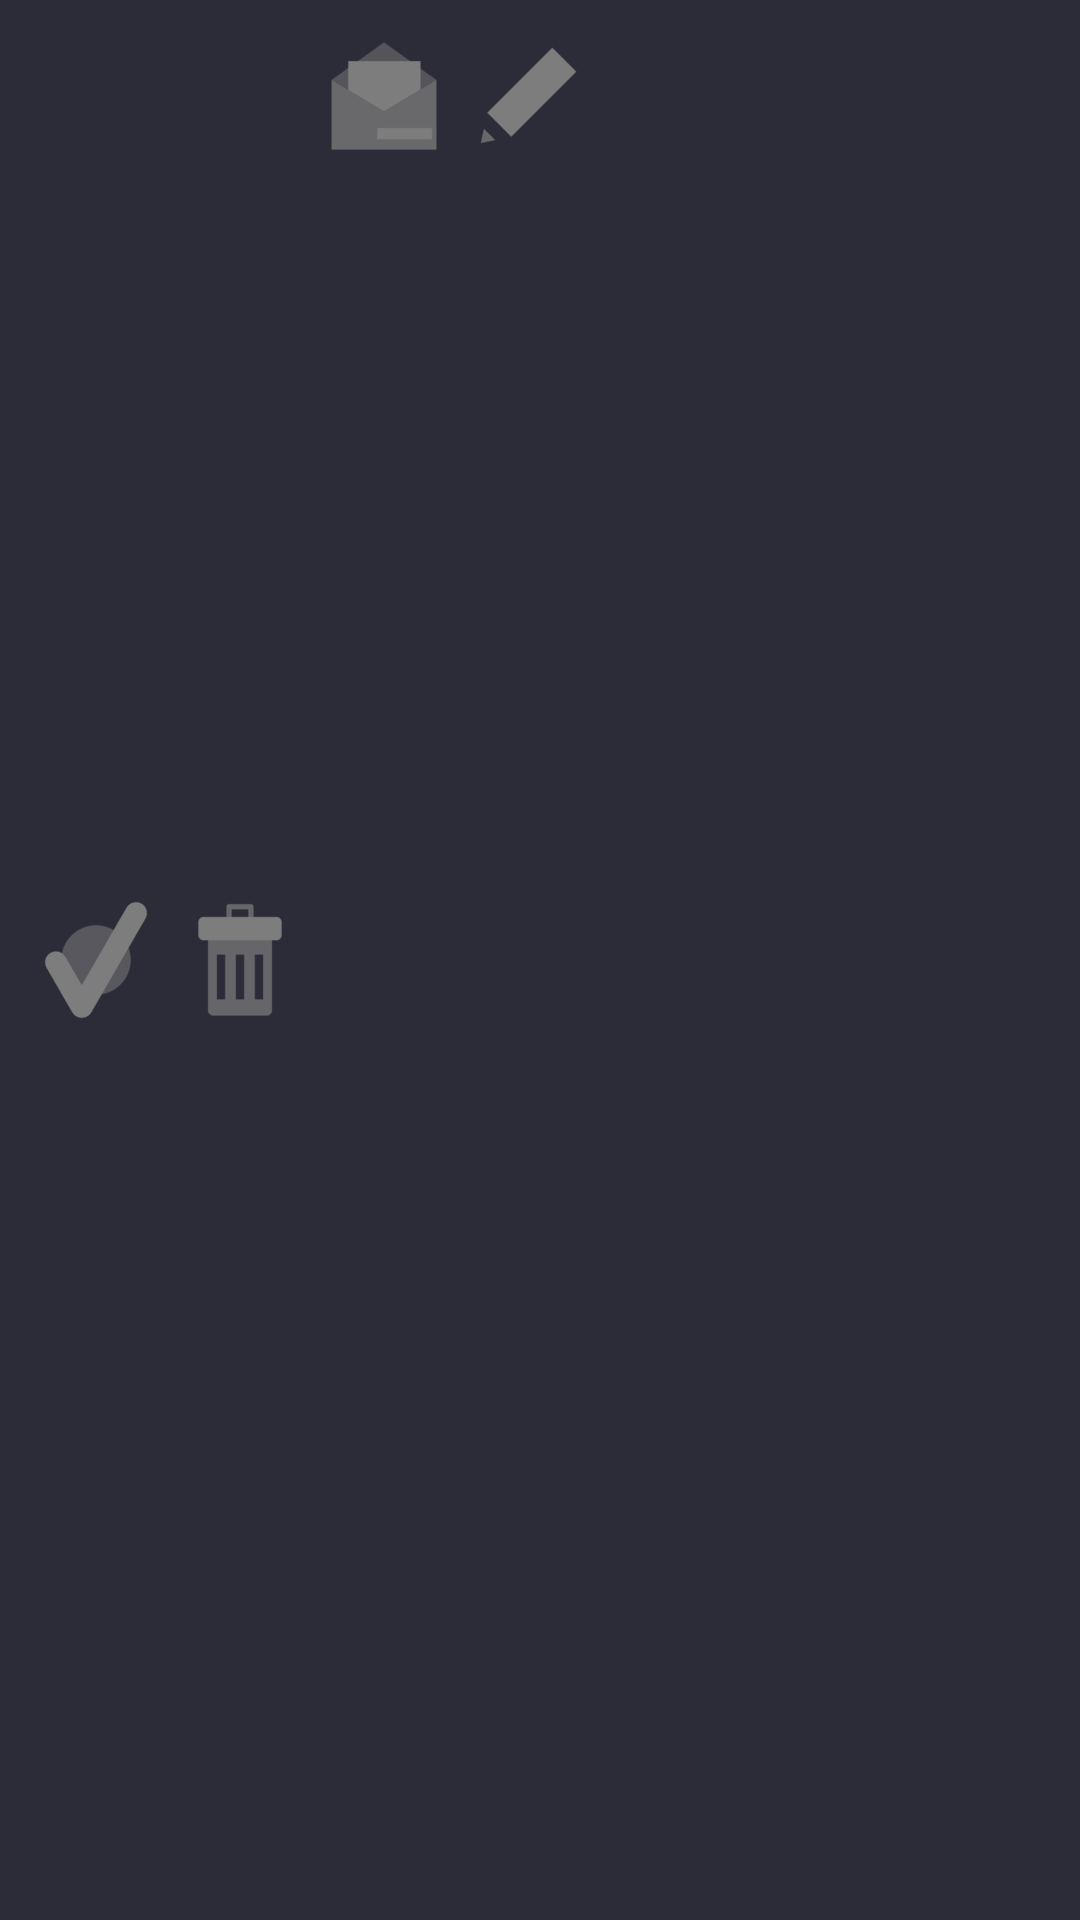

Icon bounding boxes for this 1080*1920 phone screenshot, format [x1=x1, y1=y1, x2=x2, y2=y2]:
bar pencil: [x1=481, y1=48, x2=576, y2=143]
delete: [x1=198, y1=904, x2=282, y2=1016]
mail open: [x1=331, y1=43, x2=437, y2=150]
